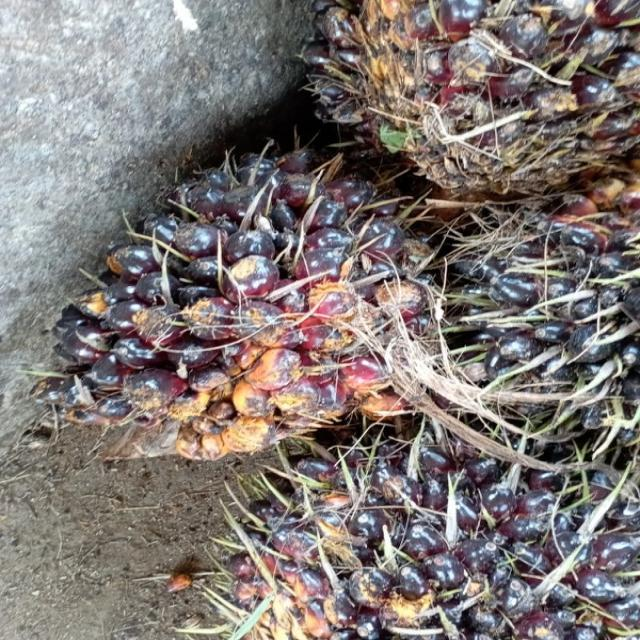fraksi 00: (57, 149, 456, 449), (228, 447, 640, 639)
